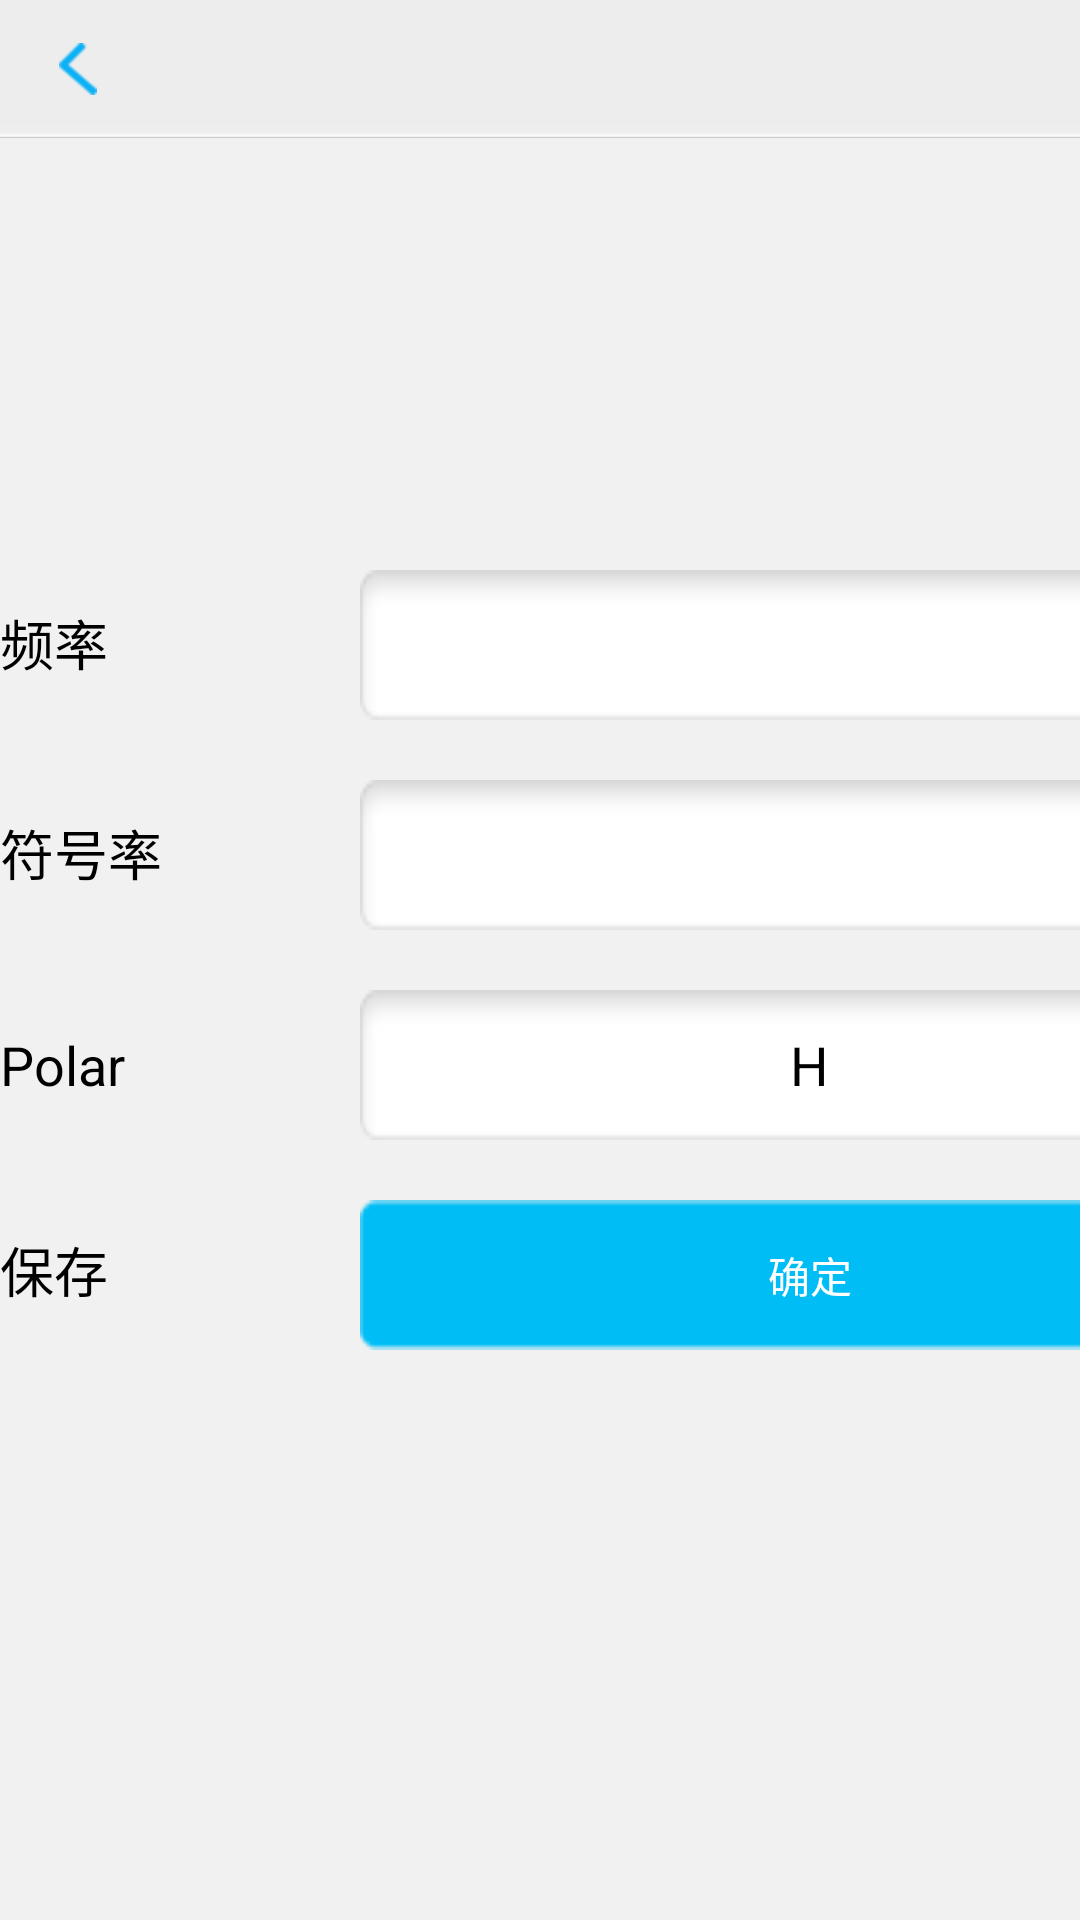

Icon click points for this 1080 x 1920 phone screenshot, format (x=x, y=y):
bnt back nor: (x=78, y=69)
